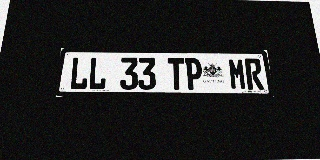3: (120, 57, 138, 90), (138, 58, 155, 90)
L: (69, 57, 89, 90), (88, 57, 107, 90)
M: (228, 58, 247, 90)
P: (185, 58, 203, 90)
R: (244, 58, 264, 90)
T: (168, 58, 185, 90)
